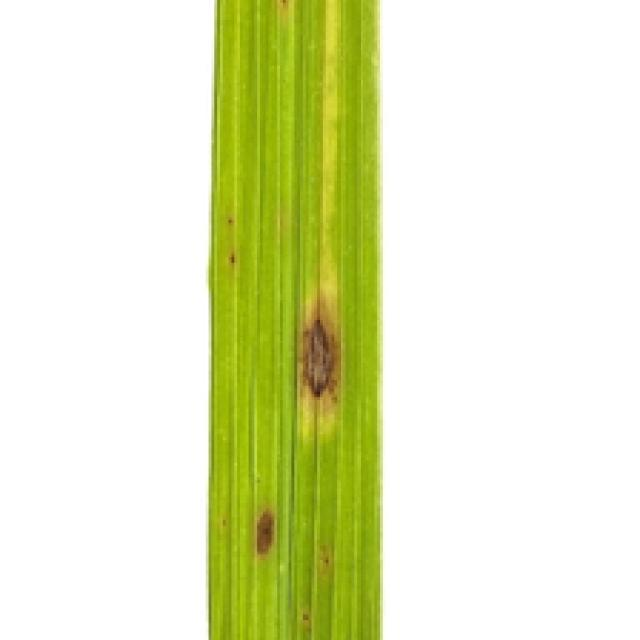Rice___Rice_Blast: (205, 0, 385, 637)
